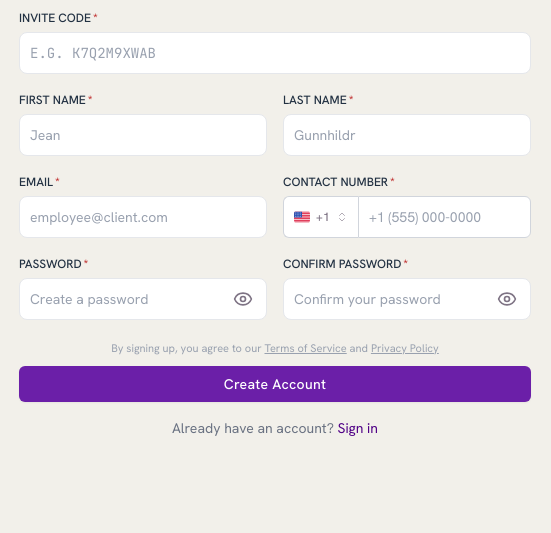
ClientSignupForm interactions › rejects a malformed invite code on submit
Step 1. Type "short" into the field labelled "Invite Code *" → x=275, y=53, box top-left (19, 32), bottom-right (531, 74)
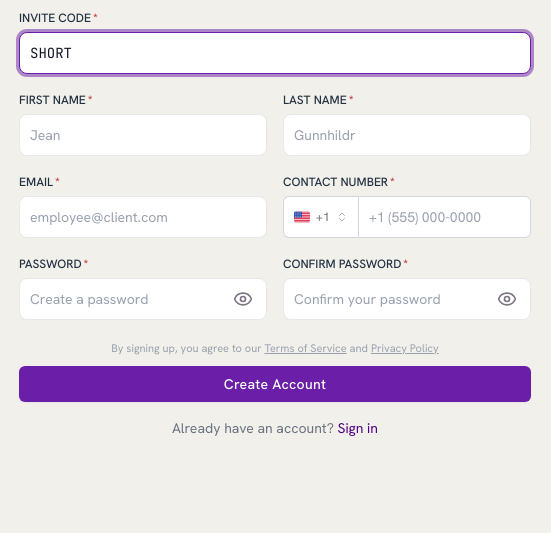
Step 2. Click the button "Create Account" → x=275, y=384, box top-left (19, 366), bottom-right (531, 402)
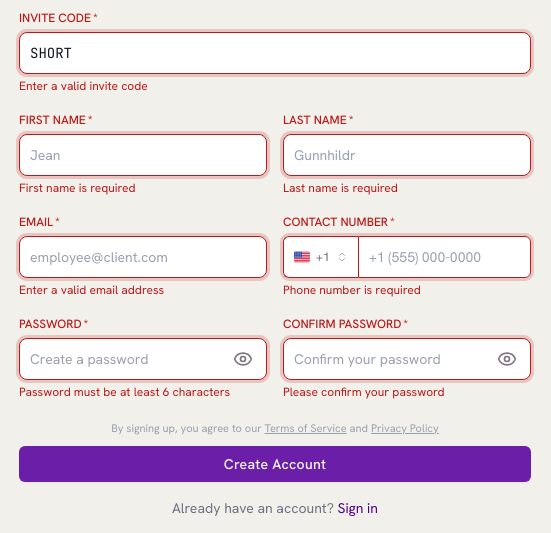
Result: the text "Enter a valid invite code" is shown at top-left (19, 78), bottom-right (148, 94)
